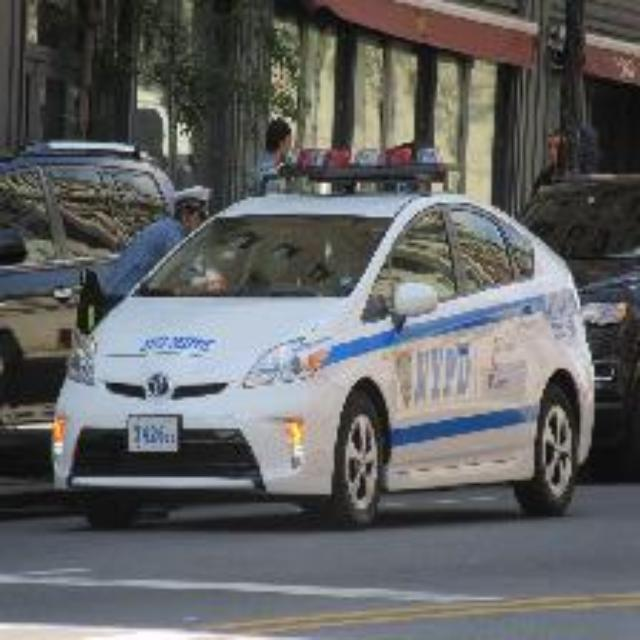emergency: (40, 147, 598, 547)
